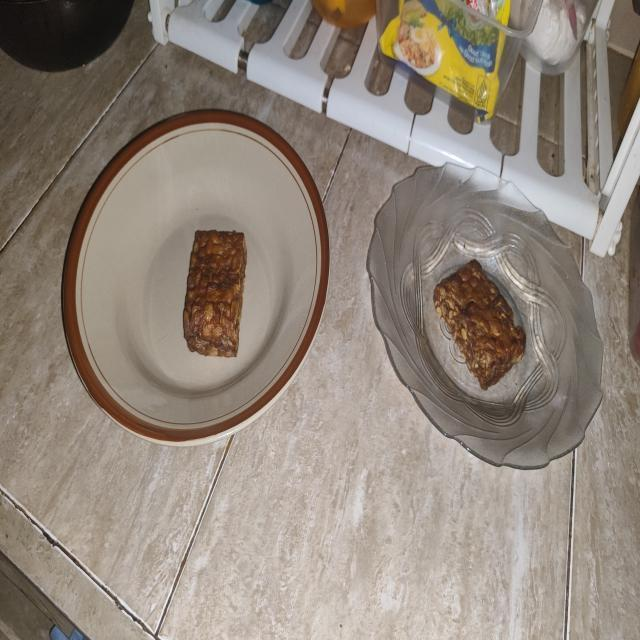tempe_goreng: (434, 260, 526, 390), (183, 230, 247, 358)
